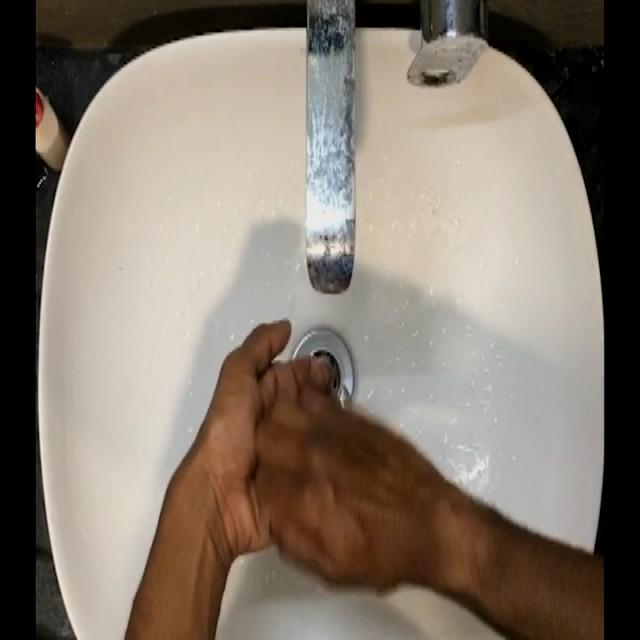step_4: (207, 312, 445, 613)
